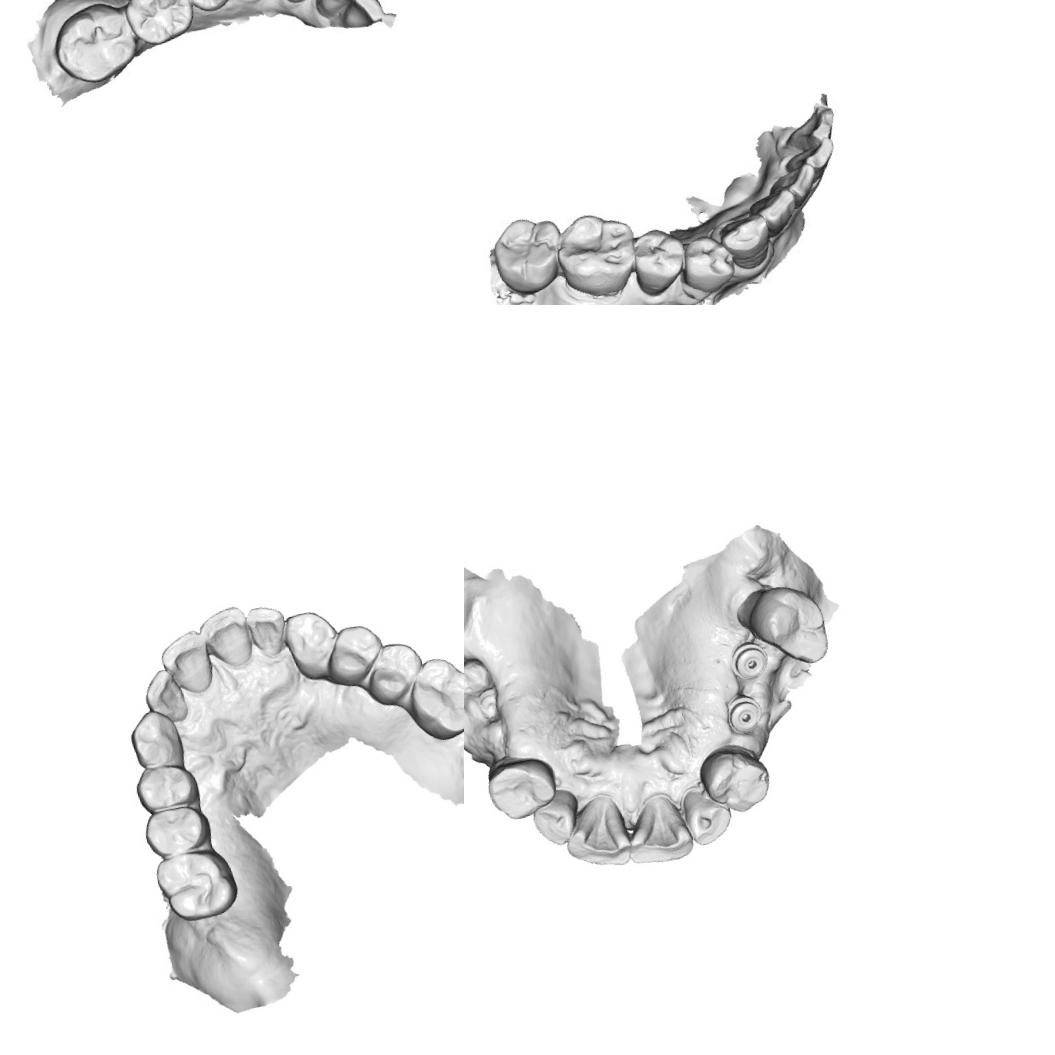canine: (278, 604, 346, 686), (123, 704, 188, 777), (718, 210, 772, 272)
implant: (720, 689, 765, 737), (726, 636, 772, 682)
incisor: (557, 791, 636, 875), (618, 788, 696, 869), (155, 626, 216, 700), (195, 602, 256, 674), (526, 785, 589, 851), (677, 778, 736, 847), (139, 664, 191, 728), (746, 182, 800, 238), (242, 600, 290, 660), (779, 105, 838, 149), (778, 137, 836, 180), (772, 163, 819, 210), (332, 0, 393, 33), (306, 0, 363, 22)
molar: (731, 576, 835, 676), (548, 204, 642, 303), (45, 0, 140, 89), (150, 842, 243, 928), (484, 210, 570, 300), (402, 649, 464, 746), (119, 0, 199, 49)
premolar: (694, 740, 776, 820), (482, 752, 562, 824), (358, 637, 430, 710), (625, 224, 690, 300), (320, 618, 389, 689), (139, 802, 214, 860), (674, 230, 737, 294), (130, 758, 201, 814), (178, 0, 238, 15)
